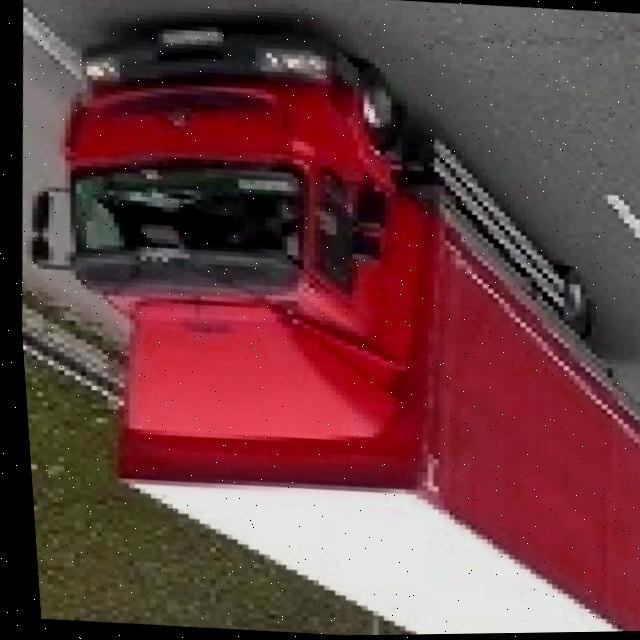truck: (1, 10, 640, 640)
